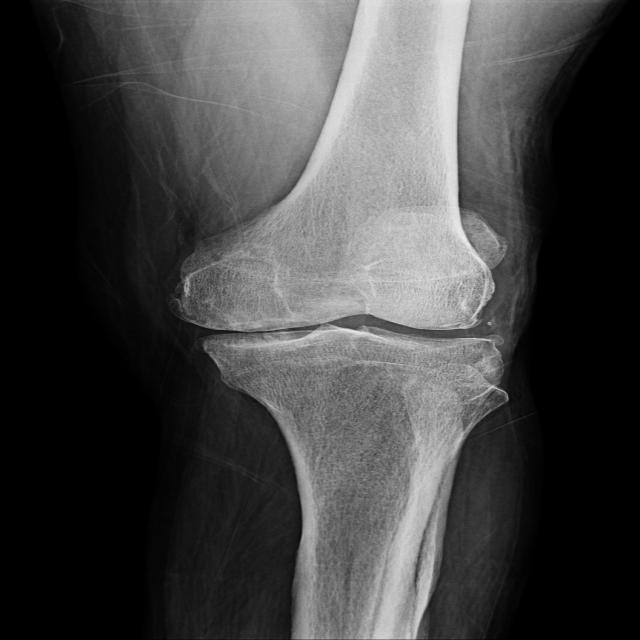osteo: (170, 230, 514, 376)
